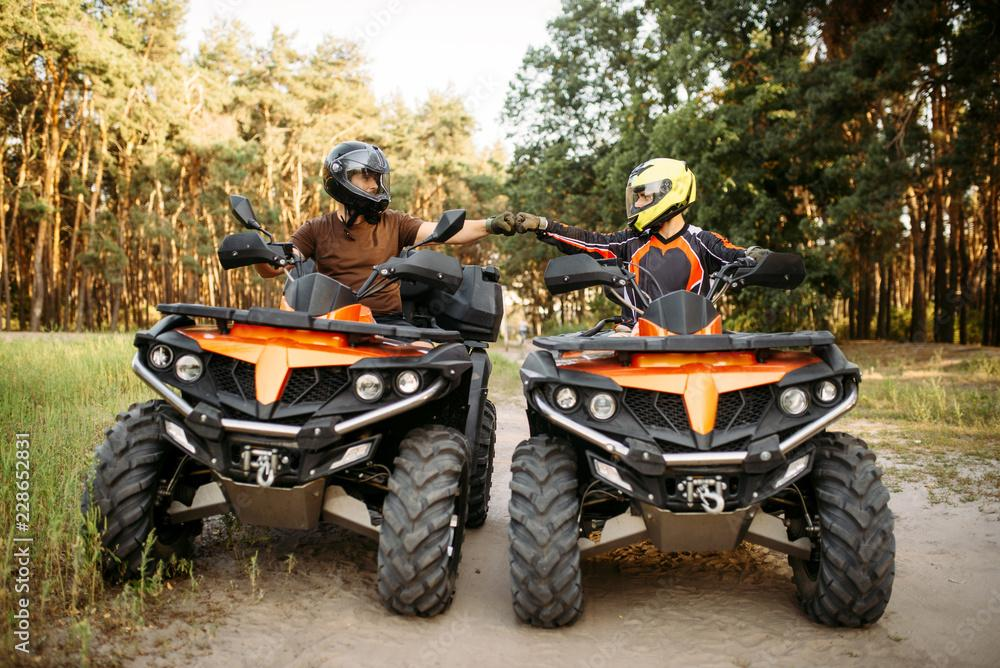helmet: (625, 156, 698, 237), (322, 140, 391, 218)
